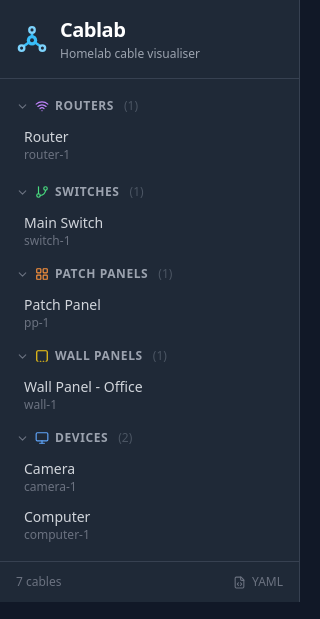
Sidebar › collapses and hides entities when the section toggle is clicked
The image size is (320, 619).
Check: the text "Computer" is shown, box [24,507,90,526]
What coordinates should you click on to do the following:
click the button titled "Collapse Devices"
I would click on:
 (140, 438)
Its box is [16,430,265,446].
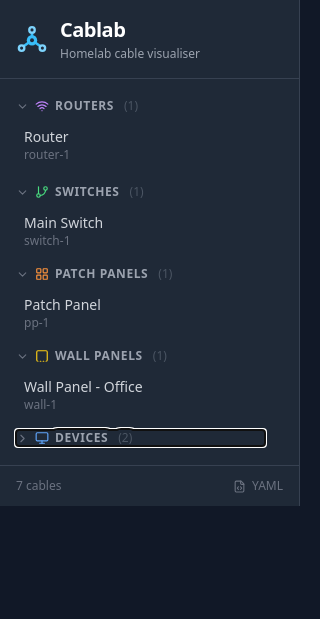
Check: the button "Computer" is gone
What coordinates should you click on to do the following:
click the button titled "Expand Devices"
I would click on:
 (140, 438)
Its box is [16,430,265,446].
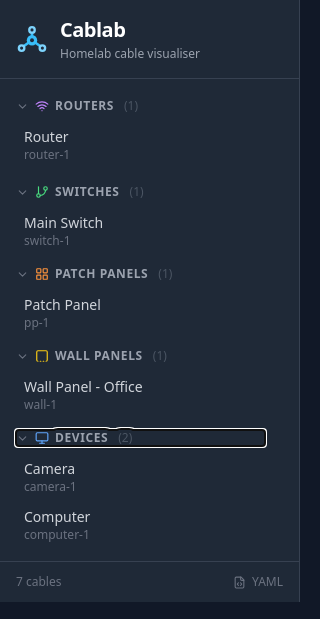
Check: the text "Computer" is shown, box [24,507,90,526]
